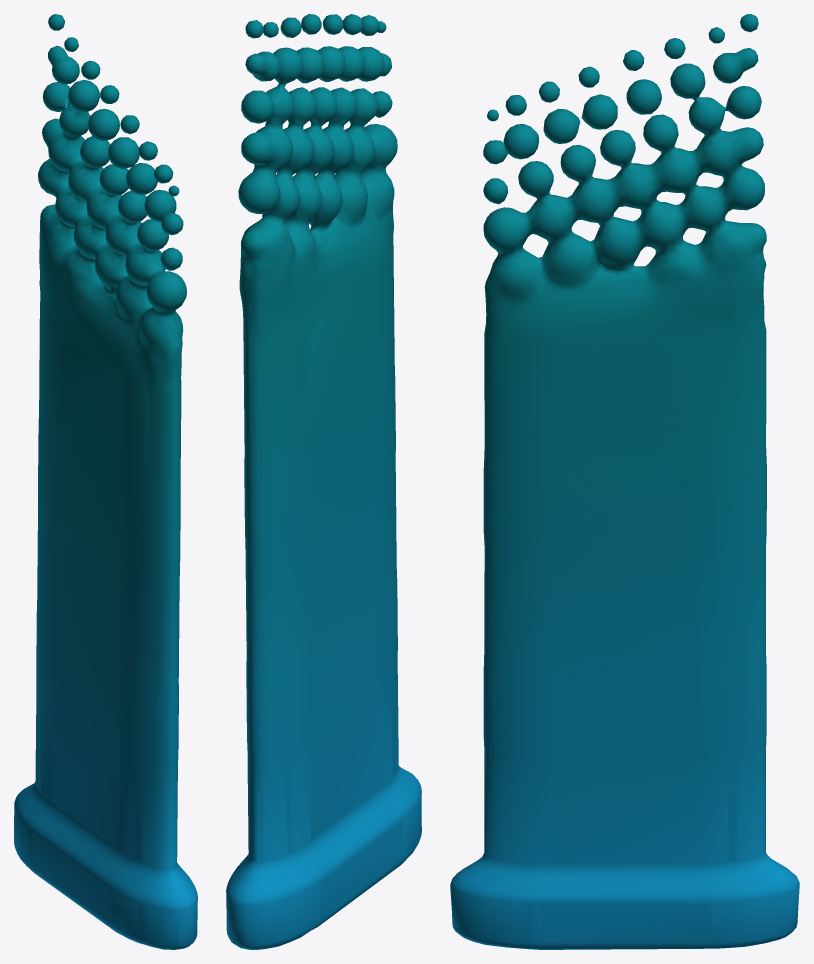
Rendered from Intro_Sign_1.glb.
The picture shows the model from 3 angles, left to right: view 1: azimuth 30°, elevation 25°; view 2: azimuth 150°, elevation 25°; view 3: azimuth 270°, elevation 25°; orthographic projection. The views are drawn at different scales.
Parts seen in each view (by area): view 1: Stand_Example.001; view 2: Stand_Example.001; view 3: Stand_Example.001.
Boxes of the visible parts, x1,y1,x2,y2 form: Stand_Example.001: (14,14,197,949); Stand_Example.001: (226,14,421,949); Stand_Example.001: (450,14,799,949).
Bounding box in the file's own units: 0.2071 × 2.37 × 0.8148.
1 material, 1 textured.
